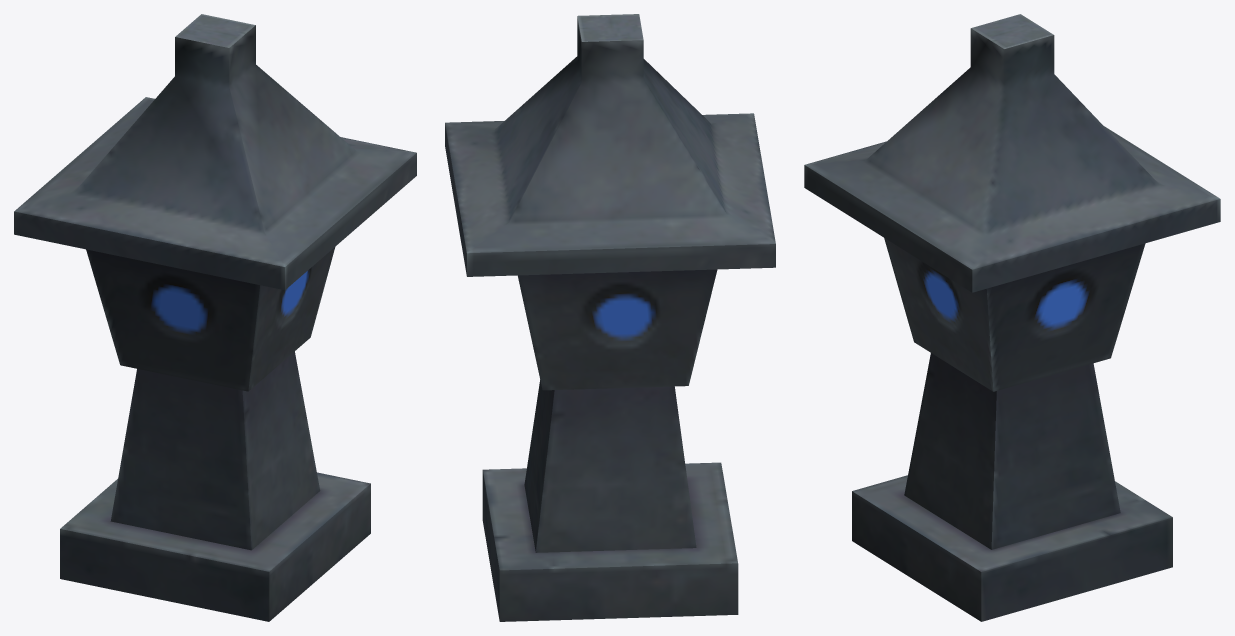
Rendered from Area_04_37.fbx.
The picture shows the model from 3 angles, left to right: view 1: azimuth 30°, elevation 25°; view 2: azimuth 150°, elevation 25°; view 3: azimuth 270°, elevation 25°; orthographic projection. The views are drawn at different scales.
Parts seen in each view (by area): view 1: Area_04_37; view 2: Area_04_37; view 3: Area_04_37.
Boxes of the visible parts, box(x1,y1,x2,y2) form: Area_04_37: box(14, 14, 416, 621); Area_04_37: box(445, 14, 775, 621); Area_04_37: box(804, 14, 1220, 621).
Size of the model in its own units: 231 by 320 by 231.
